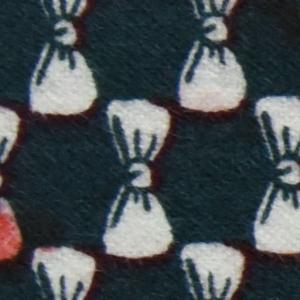Stain: (1, 207, 45, 284)
